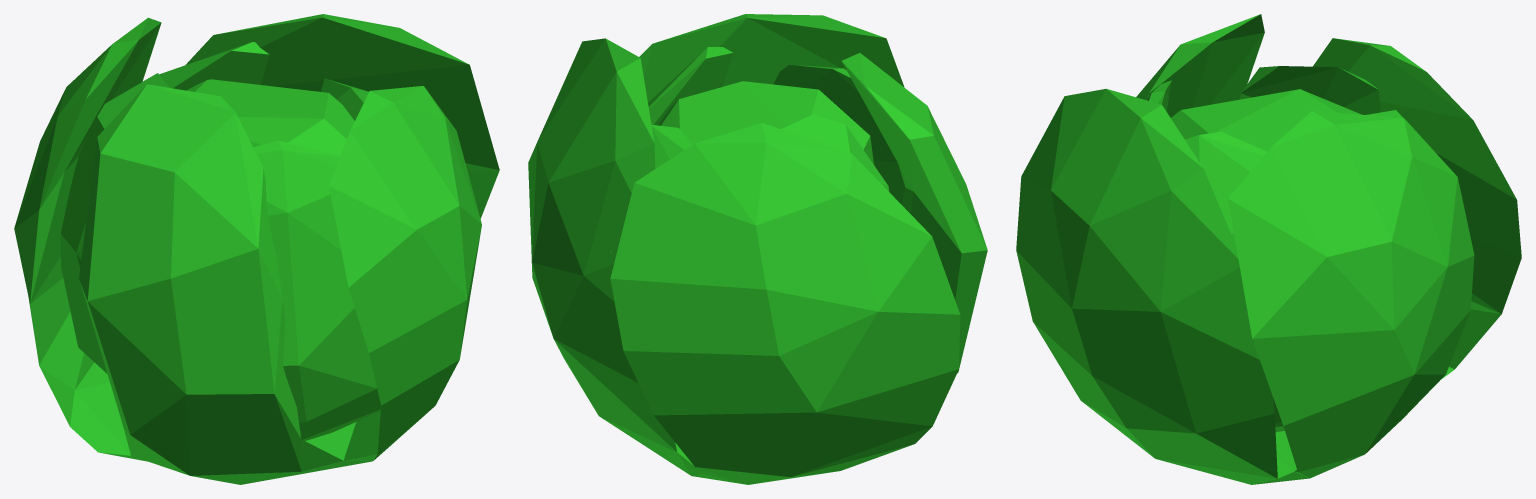
The model's file is lettuce.fbx.
3 views of the same model, side by side, from view 1: azimuth 30°, elevation 25°; view 2: azimuth 150°, elevation 25°; view 3: azimuth 270°, elevation 25° (orthographic). The views are drawn at different scales.
Visible parts, largest first — view 1: lettuce; view 2: lettuce; view 3: lettuce.
Part boxes in pixels (bbox=[...]): lettuce: bbox=[14, 14, 499, 484]; lettuce: bbox=[528, 14, 987, 484]; lettuce: bbox=[1016, 14, 1521, 484].
Size of the model in its own units: 25.63 by 21.66 by 25.59.
